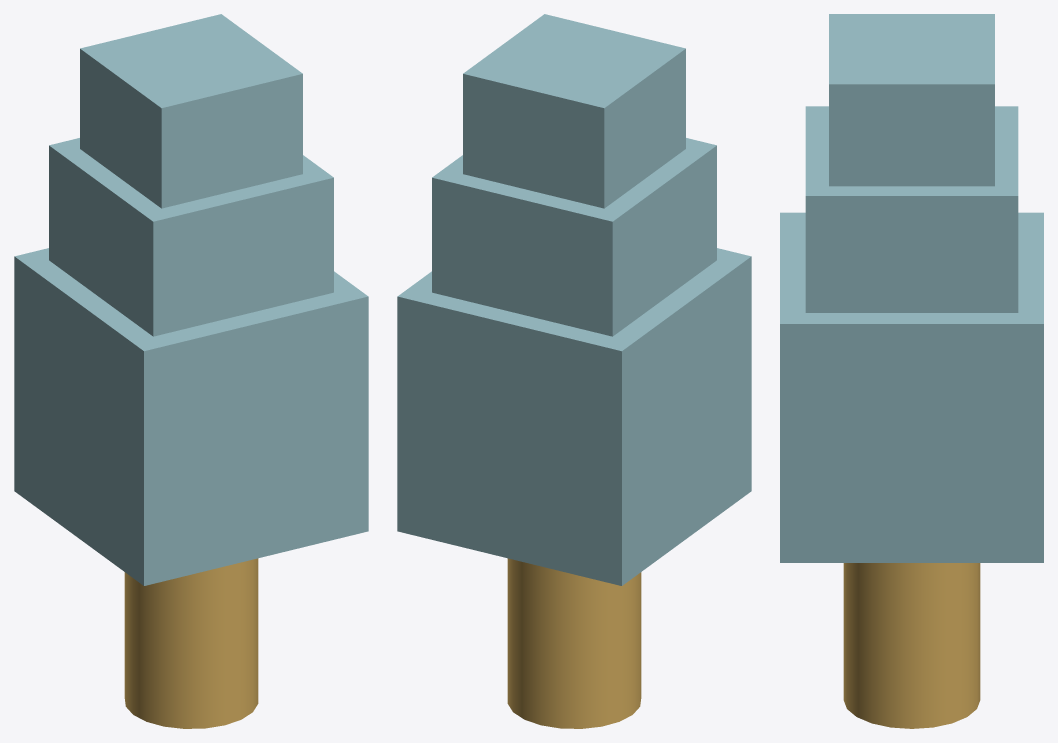
File: cubos_azul.fbx
3 views of the same model, side by side, from view 1: azimuth 30°, elevation 25°; view 2: azimuth 150°, elevation 25°; view 3: azimuth 270°, elevation 25° (orthographic).
Visible parts, largest first — view 1: pCube12, pCube11, pCube10, arvore27; view 2: pCube12, pCube11, pCube10, arvore27; view 3: pCube12, pCube11, pCube10, arvore27.
Part boxes in pixels (left/top/right/bottom): pCube12: left=14, top=248, right=368, bottom=585; pCube11: left=49, top=138, right=333, bottom=336; pCube10: left=80, top=14, right=302, bottom=208; arvore27: left=124, top=558, right=258, bottom=728; pCube12: left=397, top=248, right=751, bottom=585; pCube11: left=432, top=138, right=716, bottom=336; pCube10: left=463, top=14, right=685, bottom=208; arvore27: left=507, top=558, right=641, bottom=728; pCube12: left=780, top=212, right=1043, bottom=562; pCube11: left=805, top=106, right=1018, bottom=312; pCube10: left=829, top=14, right=994, bottom=186; arvore27: left=843, top=563, right=980, bottom=728.
Size of the model in its own units: 1.1 by 2.98 by 1.1.
